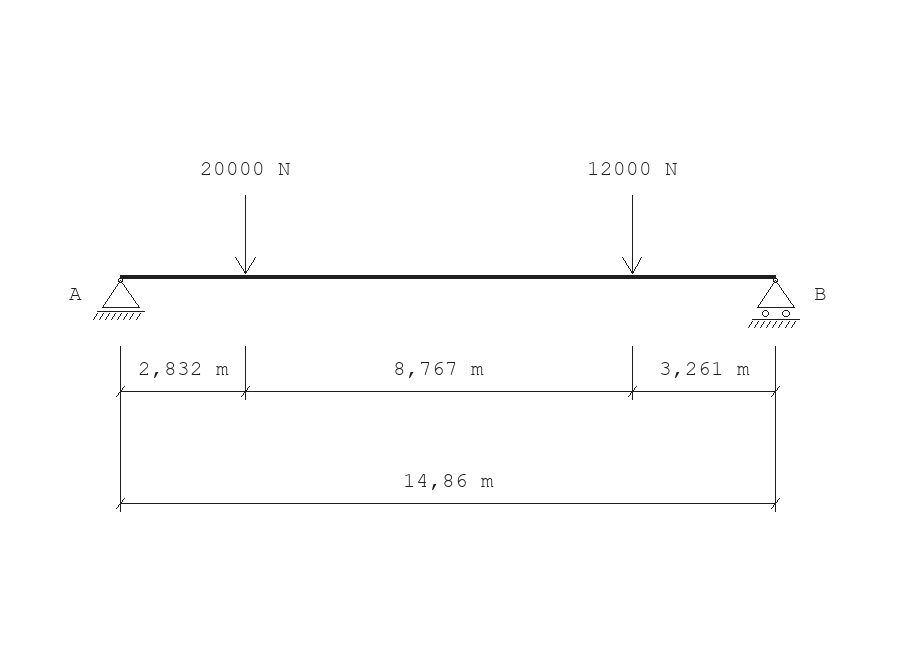pin_support: (93, 278, 145, 320)
point_load: (235, 195, 256, 274), (622, 195, 642, 274)
roller_support: (748, 278, 800, 328)
